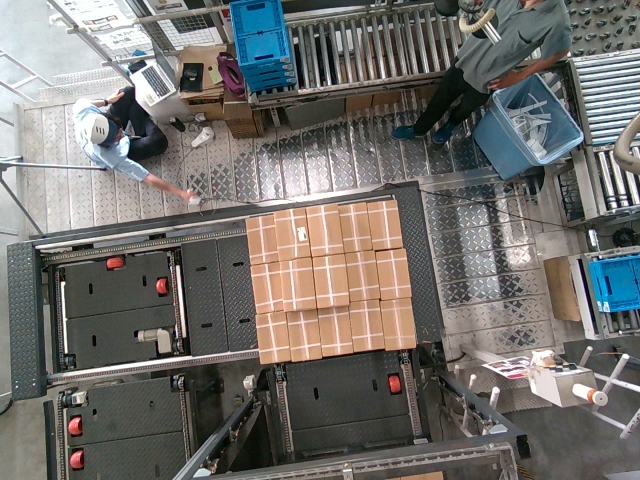box: (271, 208, 308, 257), (303, 204, 340, 253), (336, 203, 373, 252), (363, 200, 400, 249), (279, 261, 316, 310), (311, 254, 348, 303), (255, 313, 292, 362), (284, 310, 321, 359), (315, 305, 352, 354), (348, 301, 385, 350), (378, 299, 415, 348), (374, 249, 411, 298), (342, 250, 379, 299), (245, 213, 282, 262), (249, 262, 286, 311)
